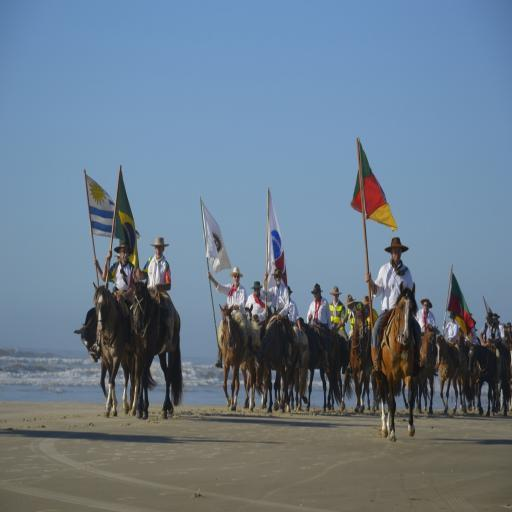horse: (220, 302, 512, 414), (369, 278, 418, 444), (130, 274, 184, 421), (70, 305, 137, 418), (92, 280, 139, 419)
